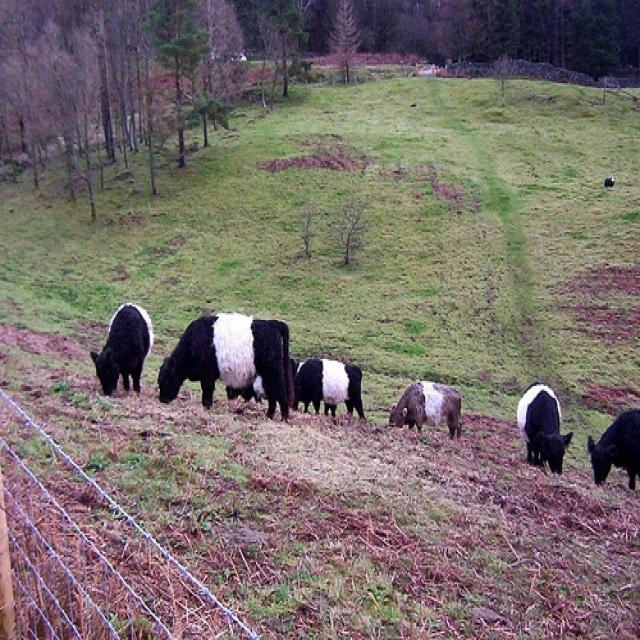cow: (156, 313, 289, 422), (89, 300, 152, 400), (517, 381, 574, 474), (388, 378, 467, 440), (294, 357, 366, 413), (592, 406, 638, 491)
